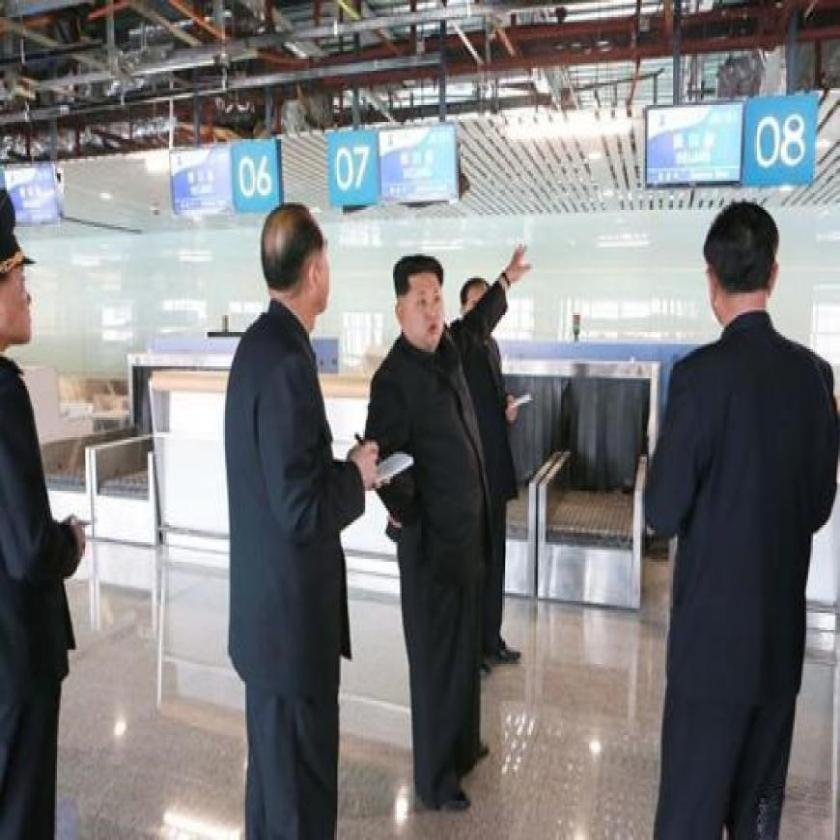Sin_casco: (692, 190, 787, 347), (250, 184, 335, 332), (0, 168, 42, 373), (385, 250, 447, 364)
